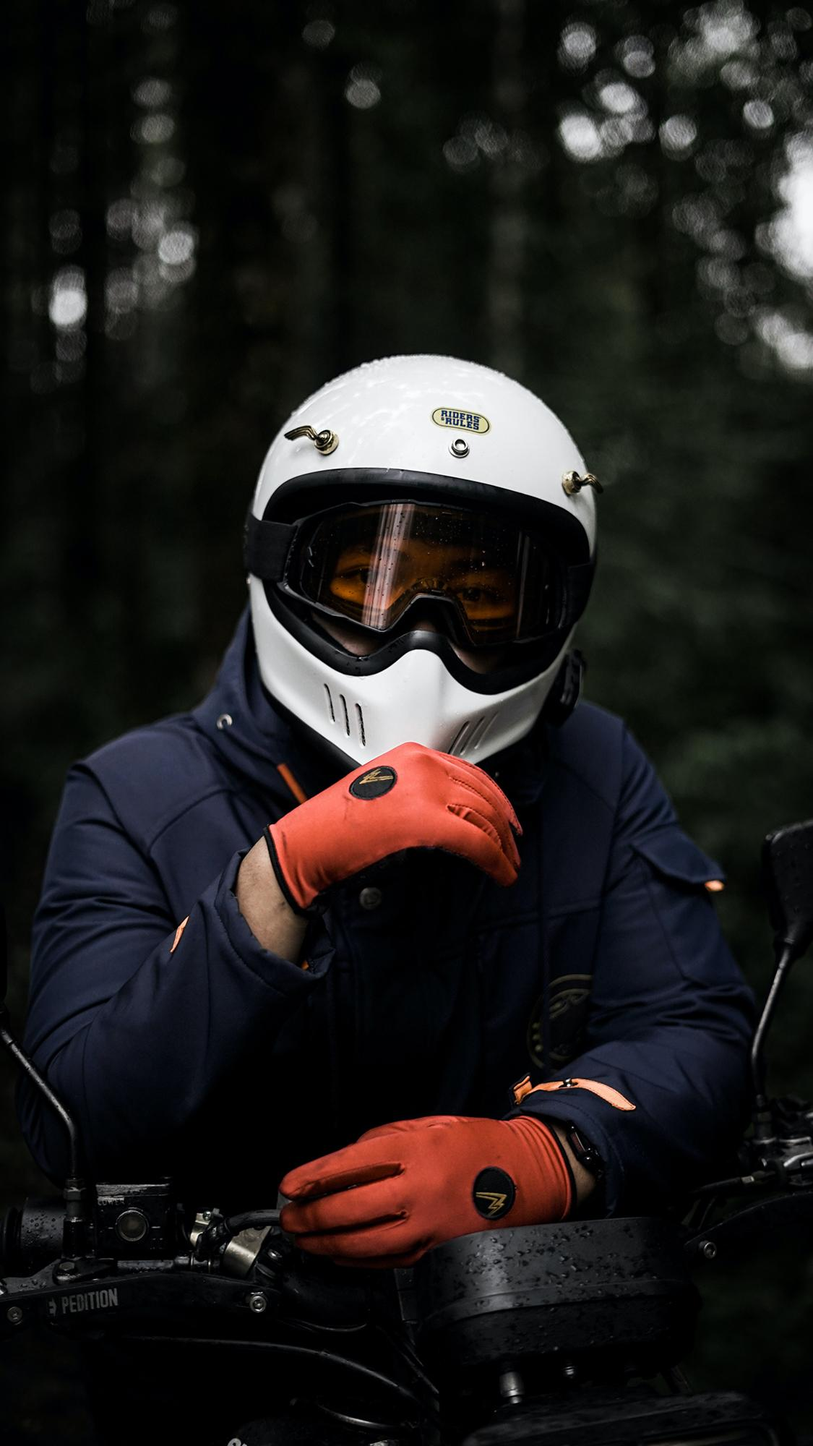helmet: (239, 352, 606, 808)
